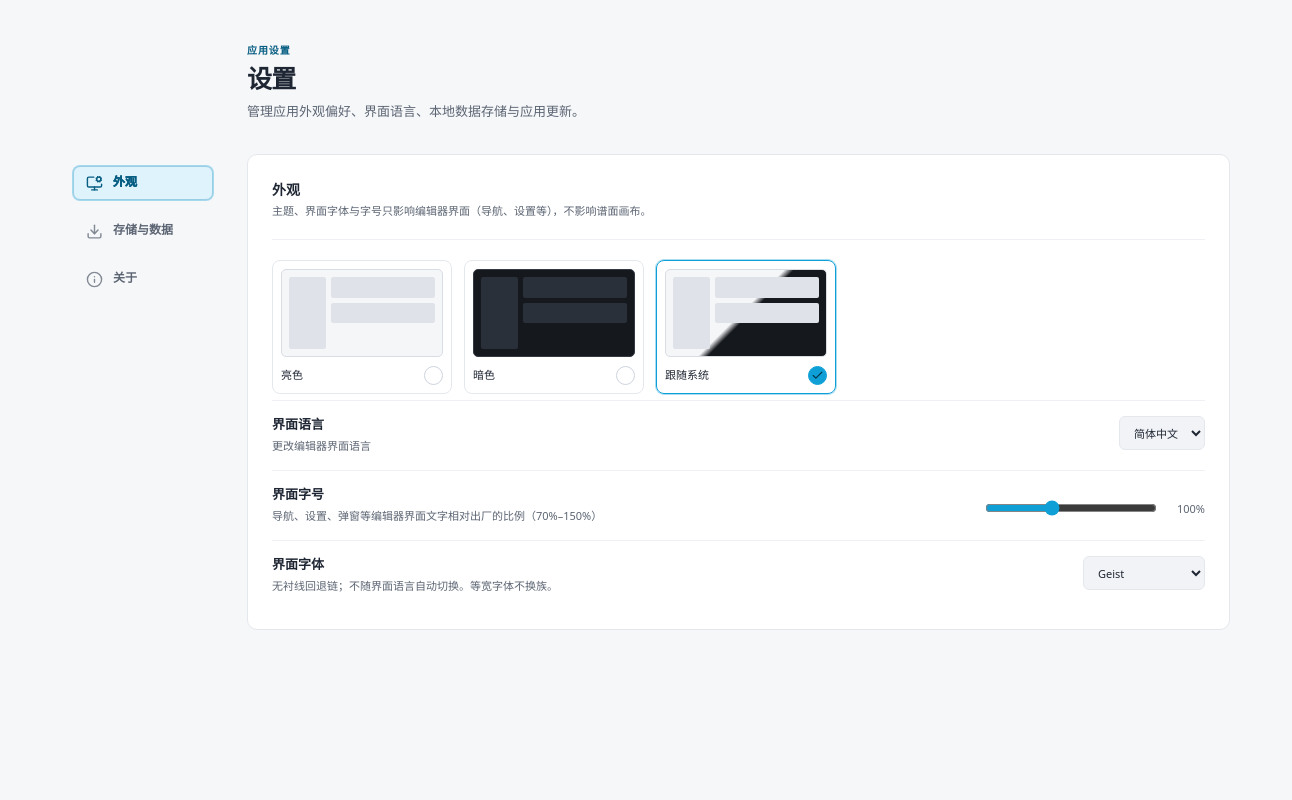
Test case: 票 39 · 切换数据目录后的即时联动 › 认领成功：通知 Provider（catalogEpoch 递增）+ 背景皮肤重新装载 + 缓存统计重拉
The image size is (1292, 800).
# 换根：新目录里放另一个工程（后端即"盘"）
Click the button "存储与数据": [143, 230] box [73,214,213,248]
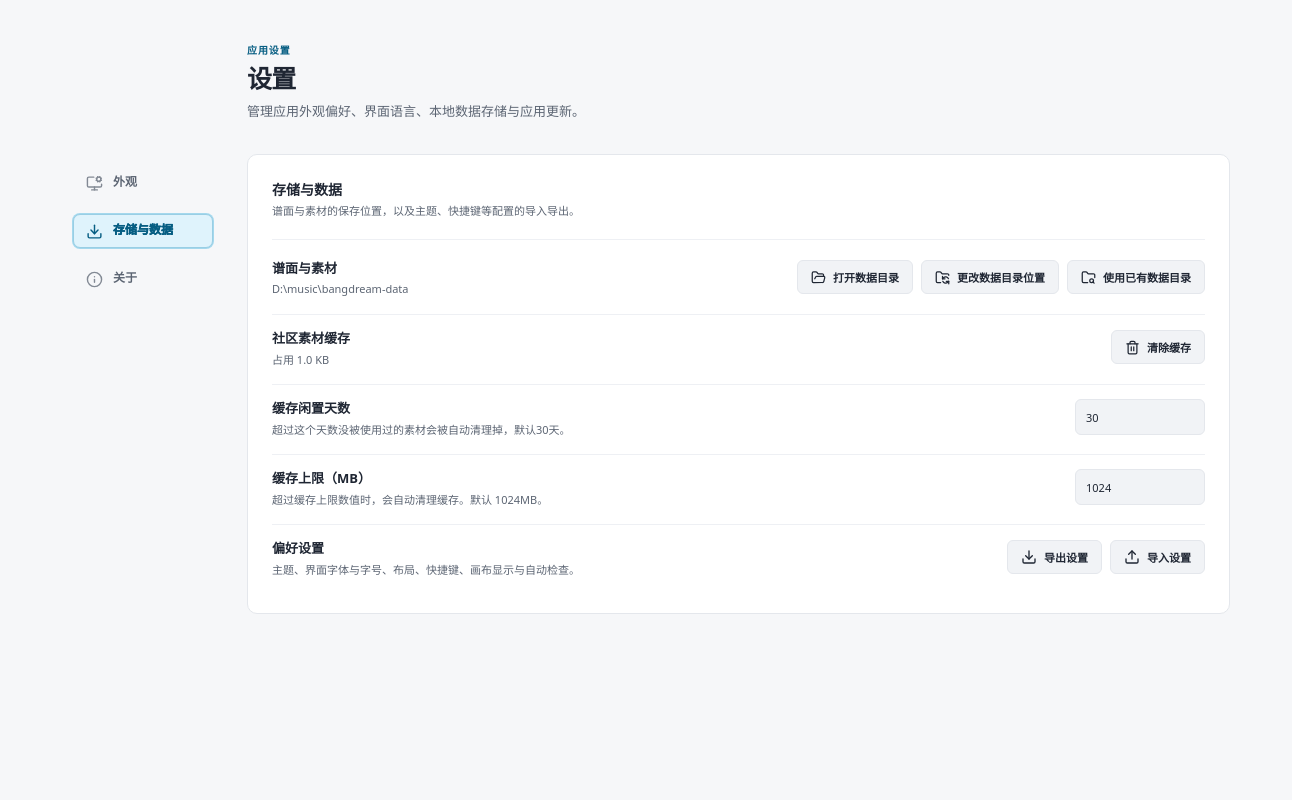
Expected: the text "D:\\music\\bangdream-data" is shown, [272,281,408,296]
Click the button "使用已有数据目录": [1136, 277] box [1067,260,1205,294]
(page scrolled)
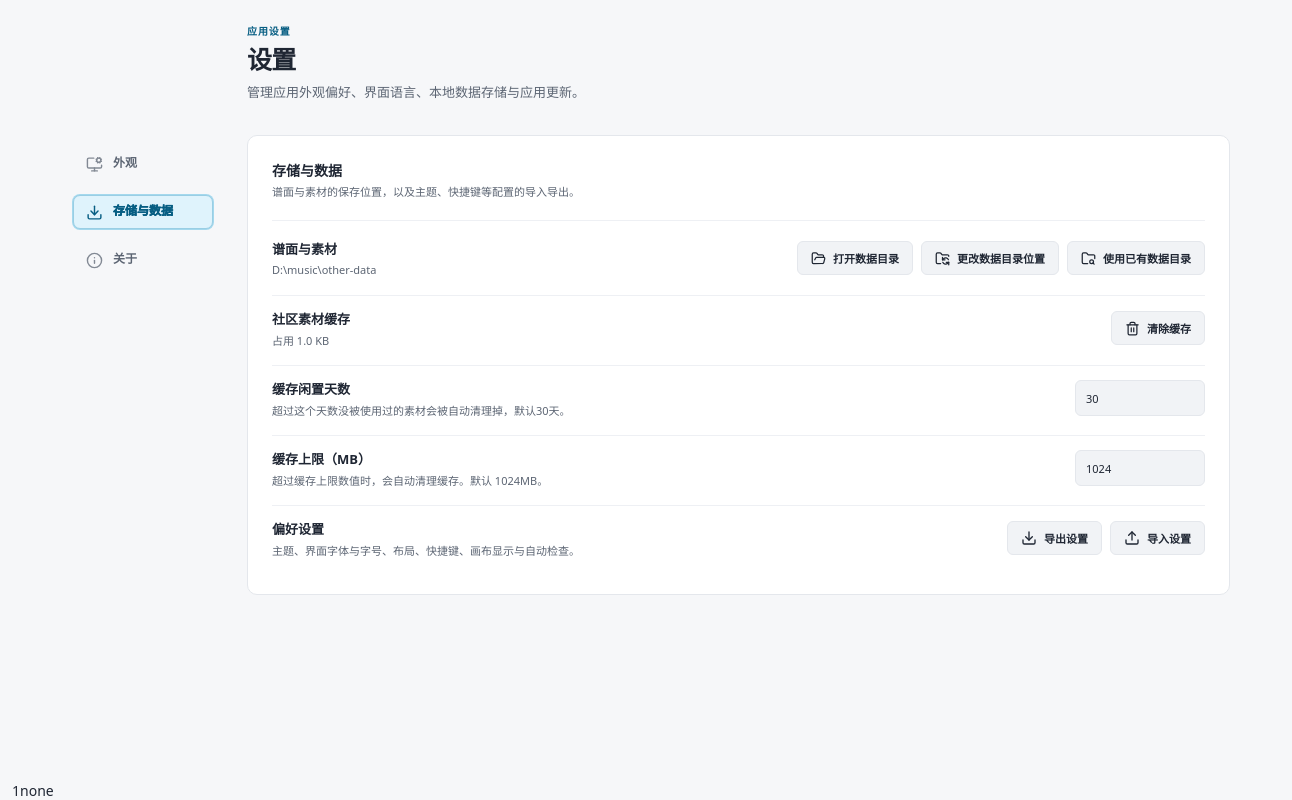
Expected: the text with test id "probe-epoch" reads "1", [12,781,20,799]
